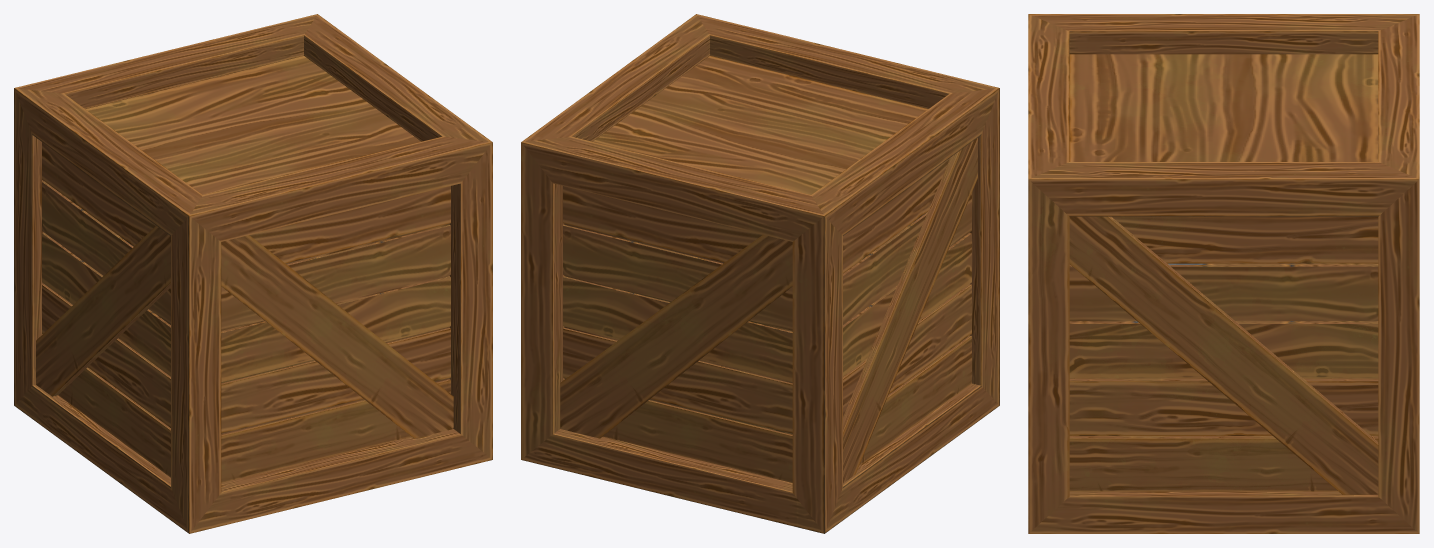
3 renders of one model, left to right at view 1: azimuth 30°, elevation 25°; view 2: azimuth 150°, elevation 25°; view 3: azimuth 270°, elevation 25°, orthographic. The views are drawn at different scales.
Parts seen in each view (by area): view 1: Cube.1856; view 2: Cube.1856; view 3: Cube.1856.
Boxes of the visible parts, x1,y1,x2,y2 form: Cube.1856: [14, 14, 492, 533]; Cube.1856: [521, 14, 999, 533]; Cube.1856: [1028, 14, 1419, 533].
Bounding box in the file's own units: 133 × 133 × 133.
1 material, 1 textured.
